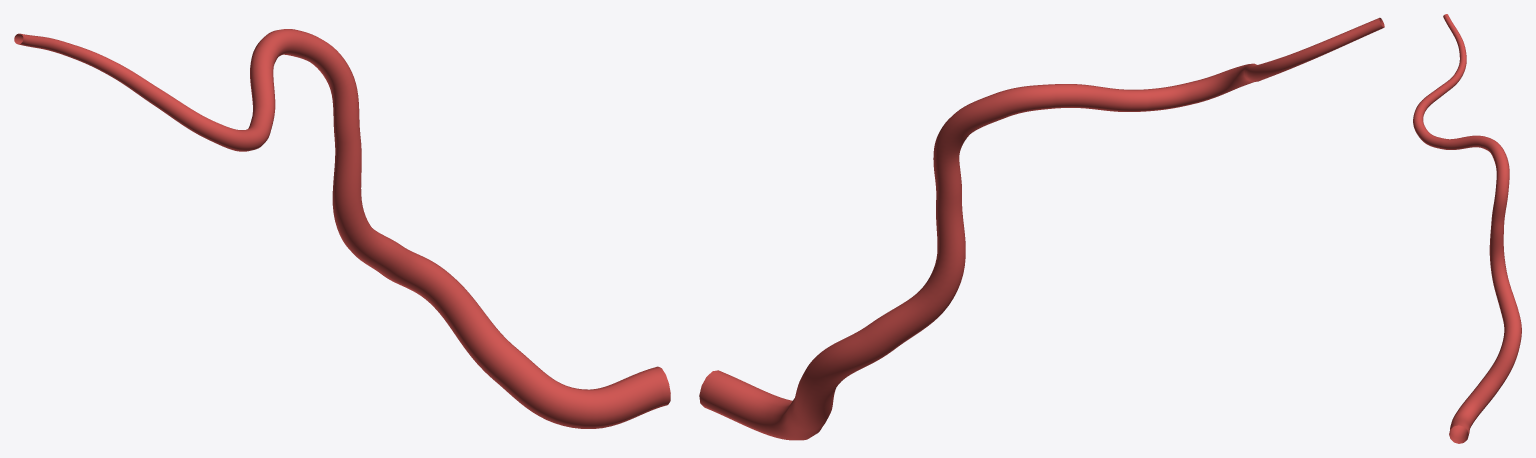
The picture shows the model from 3 angles, left to right: view 1: azimuth 30°, elevation 25°; view 2: azimuth 150°, elevation 25°; view 3: azimuth 270°, elevation 25°; orthographic projection. The views are drawn at different scales.
Parts seen in each view (by area): view 1: 右侧小脑下前动脉; view 2: 右侧小脑下前动脉; view 3: 右侧小脑下前动脉.
Boxes of the visible parts, x1,y1,x2,y2 form: 右侧小脑下前动脉: [14, 29, 670, 428]; 右侧小脑下前动脉: [699, 17, 1384, 440]; 右侧小脑下前动脉: [1413, 14, 1521, 443].
Bounding box in the file's own units: 0.0509 × 0.0403 × 0.0145.
